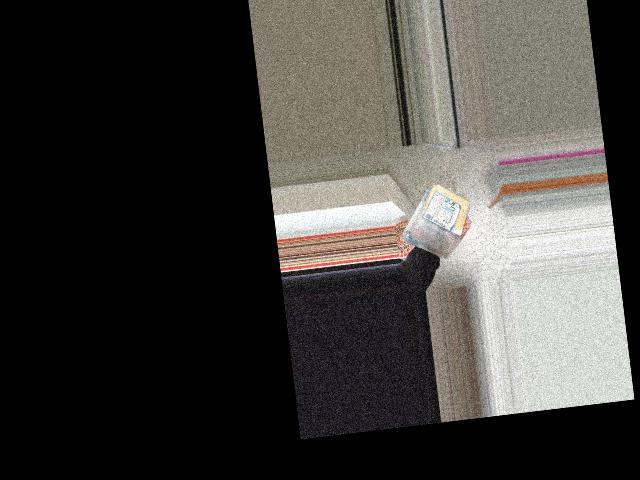cheese: (423, 180, 467, 249)
